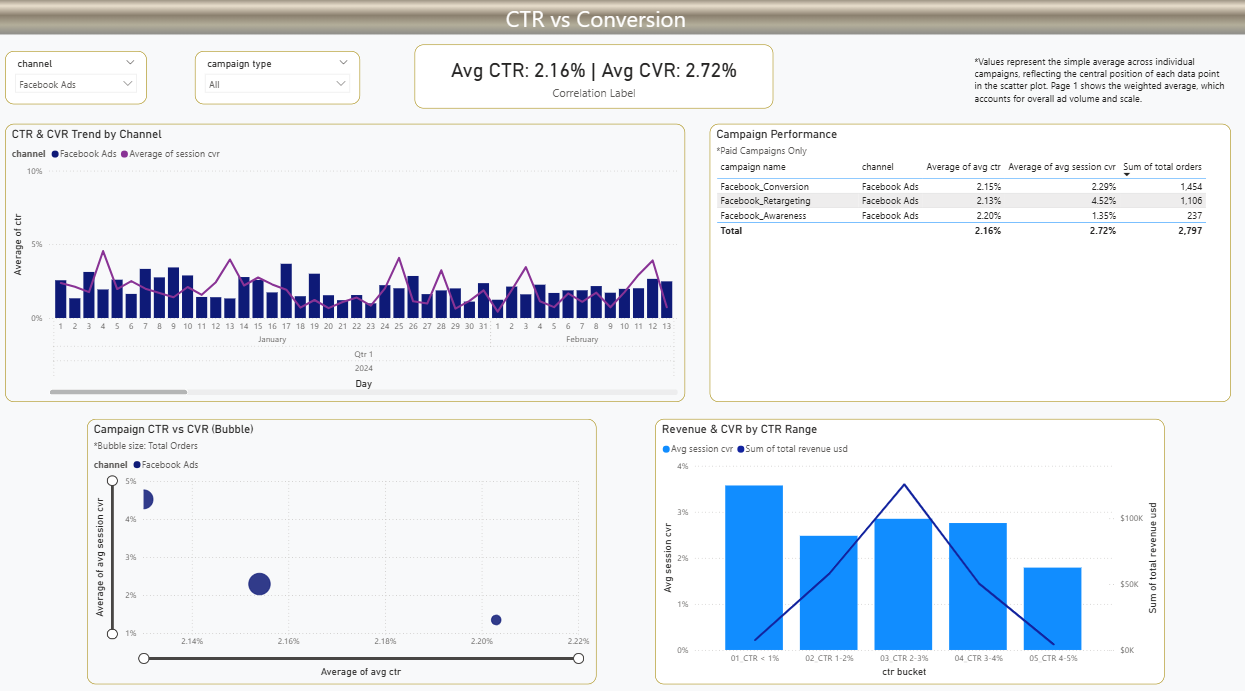

What the dashboard file says about the page in this screenshot:
{"tool":"powerbi","page":{"name":"CTR vs Conversion","canvas":[1920,1080],"ordinal":1},"visuals":[{"type":"scatterChart","title":"Campaign CTR vs CVR (Bubble)","fields":{"Category":["v_campaign_ctr_cvr_scatter.campaign_name"],"Series":["v_campaign_ctr_cvr_scatter.channel"],"X":["Avg(v_campaign_ctr_cvr_scatter.avg_ctr)"],"Y":["Avg(v_campaign_ctr_cvr_scatter.avg_session_cvr)"],"Size":["Sum(v_campaign_ctr_cvr_scatter.total_orders)"]},"box":[225.2,606.1,735.5,382.8],"z":0},{"type":"lineClusteredColumnComboChart","title":"CTR & CVR Trend by Channel","fields":{"Y":["Avg(v_campaign_daily_ctr_cvr.ctr)"],"Y2":["Avg(v_campaign_daily_ctr_cvr.session_cvr)"],"Series":["v_campaign_daily_ctr_cvr.channel"],"Category":["v_campaign_daily_ctr_cvr.date.Variation.Date Hierarchy.Year","v_campaign_daily_ctr_cvr.date.Variation.Date Hierarchy.Quarter","v_campaign_daily_ctr_cvr.date.Variation.Date Hierarchy.Month","v_campaign_daily_ctr_cvr.date.Variation.Date Hierarchy.Day"]},"box":[107,180.1,981.3,401.5],"z":1000},{"type":"textbox","box":[724.3,0,471,65.7],"z":2000},{"type":"card","fields":{"Values":["_measure.Correlation Label"]},"box":[698,65.7,517.9,91.9],"z":3000},{"type":"tableEx","title":"Campaign Performance","fields":{"Values":["v_campaign_ctr_cvr_scatter.campaign_name","v_campaign_ctr_cvr_scatter.channel","Avg(v_campaign_ctr_cvr_scatter.avg_ctr)","Avg(v_campaign_ctr_cvr_scatter.avg_session_cvr)","Sum(v_campaign_ctr_cvr_scatter.total_orders)"]},"box":[1123.9,180.1,752.4,401.5],"z":4000},{"type":"slicer","fields":{"Values":["dim_channel.channel"]},"box":[107,75.1,204.5,76.9],"z":5000},{"type":"slicer","fields":{"Values":["dim_campaign_type.campaign_type"]},"box":[380.9,75.1,238.3,76.9],"z":6000},{"type":"textbox","box":[1501.1,75.1,375.3,122],"z":7000},{"type":"lineStackedColumnComboChart","title":"Revenue & CVR by CTR Range","fields":{"Category":["v_ctr_bucket_analysis.ctr_bucket"],"Y2":["Sum(v_ctr_bucket_analysis.total_revenue_usd)"],"Y":["Avg(v_ctr_bucket_analysis.avg_session_cvr)"]},"box":[1045.1,606.1,735.5,382.8],"z":8000}]}

Visuals, with their boxes in screenshot pixels (x1, y1, x2, y2), scaled from the page's 1920x1080 canvas onto the 1245x691 screenshot:
"Campaign CTR vs CVR (Bubble)" scatterChart: 146:388:623:633
"CTR & CVR Trend by Channel" lineClusteredColumnComboChart: 69:115:706:372
textbox: 470:0:775:42
card - _measure.Correlation Label: 453:42:788:101
"Campaign Performance" tableEx: 729:115:1217:372
slicer - dim_channel.channel: 69:48:202:97
slicer - dim_campaign_type.campaign_type: 247:48:402:97
textbox: 973:48:1217:126
"Revenue & CVR by CTR Range" lineStackedColumnComboChart: 678:388:1155:633
